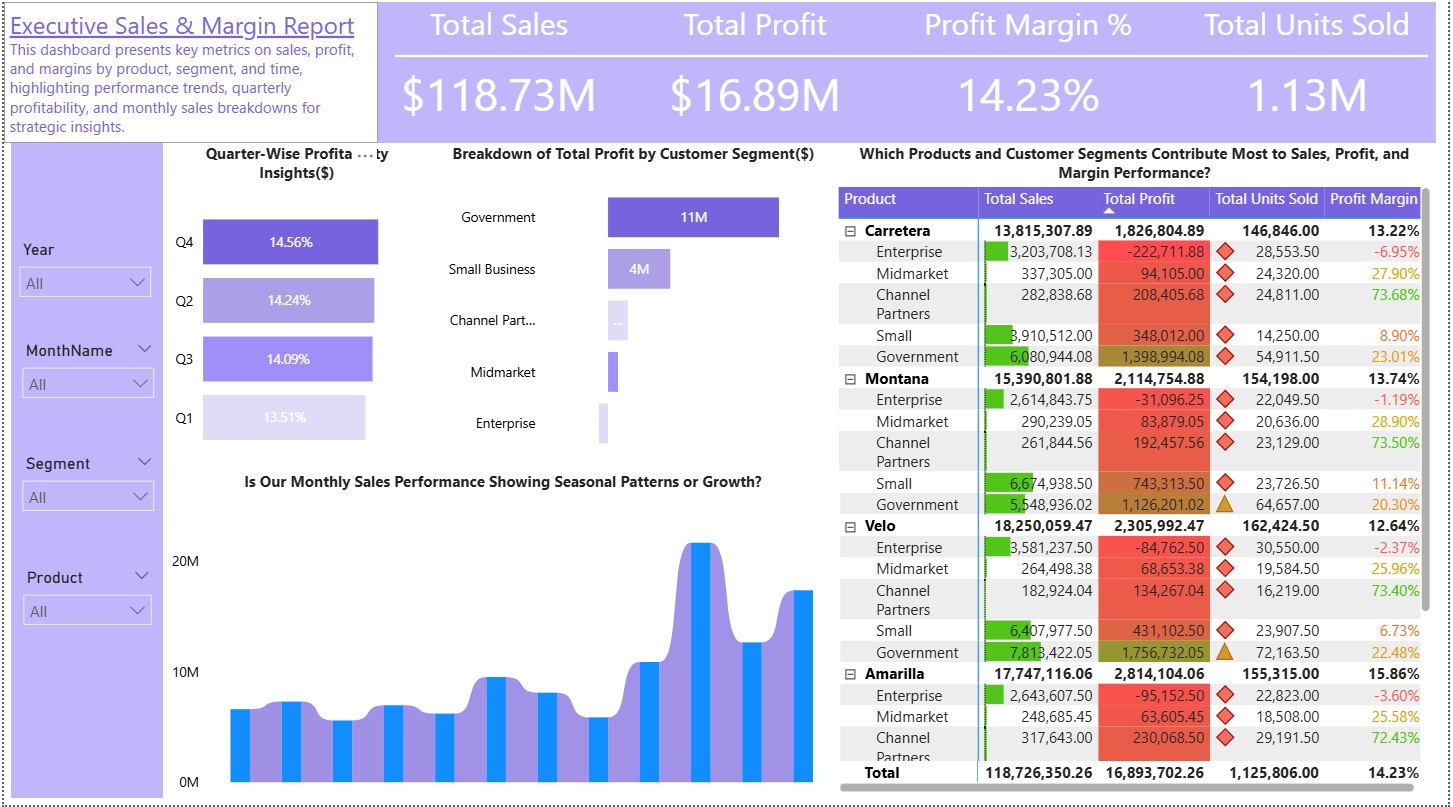

The dashboard page shown, as its layout file describes it:
{"tool":"powerbi","page":{"name":"Executive Summary Dashboard","canvas":[1280,720],"ordinal":0},"visuals":[{"type":"shape","box":[331.6,8,938.1,125],"z":0},{"type":"shape","box":[6.2,133,134.8,580.8],"z":1000},{"type":"card","title":"Total Sales","fields":{"Values":["Core Financial Measures.Total Sales"]},"box":[331.6,8,214.6,125],"z":2000},{"type":"card","title":"Total Profit","fields":{"Values":["Core Financial Measures.Total Profit"]},"box":[558.6,8,214.6,125],"z":3000},{"type":"card","title":" Profit Margin %","fields":{"Values":["Core Financial Measures.Profit Margin"]},"box":[800.7,8,214.6,125],"z":4000},{"type":"card","title":"Total Units Sold","fields":{"Values":["Core Financial Measures.Total Units Sold"]},"box":[1048.1,8,214.6,125],"z":5000},{"type":"shape","box":[346.7,49.7,916,12.4],"z":6000},{"type":"clusteredBarChart","title":"Breakdown of Total Profit by Customer Segment($)","fields":{"Category":["DimSegment.Segment"],"Y":["Core Financial Measures.Total Profit"]},"box":[375.1,133,366.2,290.8],"z":7000},{"type":"pivotTable","title":"Which Products and Customer Segments Contribute Most to Sales, Profit, and Margin Performance?","fields":{"Rows":["DimProduct.Product","DimSegment.Segment"],"Values":["Core Financial Measures.Total Sales","Core Financial Measures.Total Profit","Core Financial Measures.Total Units Sold","Core Financial Measures.Profit Margin"]},"box":[735.1,133,534.7,580.8],"z":8000},{"type":"barChart","title":"Quarter-Wise Profitability Insights($)","fields":{"Y":["Core Financial Measures.Profit Margin"],"Category":["DimDate.Quarter"]},"box":[144.5,133,230.5,290.8],"z":9000},{"type":"textbox","box":[0,8,331.6,125],"z":11000},{"type":"slicer","fields":{"Values":["DimDate.Year"]},"box":[3.5,214.6,137.4,63.8],"z":12000},{"type":"slicer","fields":{"Values":["DimDate.MonthName"]},"box":[6.2,304.1,137.4,63.8],"z":13000},{"type":"slicer","fields":{"Values":["DimSegment.Segment"]},"box":[6.2,404.3,137.4,63.8],"z":14000},{"type":"slicer","fields":{"Values":["DimProduct.Product"]},"box":[7.1,505.4,133.9,63.8],"z":15000},{"type":"ribbonChart","title":"Is Our Monthly Sales Performance Showing Seasonal Patterns or Growth?","fields":{"Category":["DimDate.Date.Variation.Date Hierarchy.Month","DimDate.Date.Variation.Date Hierarchy.Day"],"Y":["Core Financial Measures.Total Sales"]},"box":[143.6,423.8,597.6,290],"z":15001}]}

Visuals, with their boxes in screenshot pixels (x1, y1, x2, y2), scaled from the page's 1280x720 canvas onto the 1453x807 screenshot:
shape: (376,9,1441,149)
shape: (7,149,160,800)
"Total Sales" card: (376,9,620,149)
"Total Profit" card: (634,9,878,149)
" Profit Margin %" card: (909,9,1153,149)
"Total Units Sold" card: (1190,9,1433,149)
shape: (394,56,1433,70)
"Breakdown of Total Profit by Customer Segment($)" clusteredBarChart: (426,149,841,475)
"Which Products and Customer Segments Contribute Most to Sales, Profit, and Margin Performance?" pivotTable: (834,149,1441,800)
"Quarter-Wise Profitability Insights($)" barChart: (164,149,426,475)
textbox: (0,9,376,149)
slicer - DimDate.Year: (4,241,160,312)
slicer - DimDate.MonthName: (7,341,163,412)
slicer - DimSegment.Segment: (7,453,163,525)
slicer - DimProduct.Product: (8,566,160,638)
"Is Our Monthly Sales Performance Showing Seasonal Patterns or Growth?" ribbonChart: (163,475,841,800)
